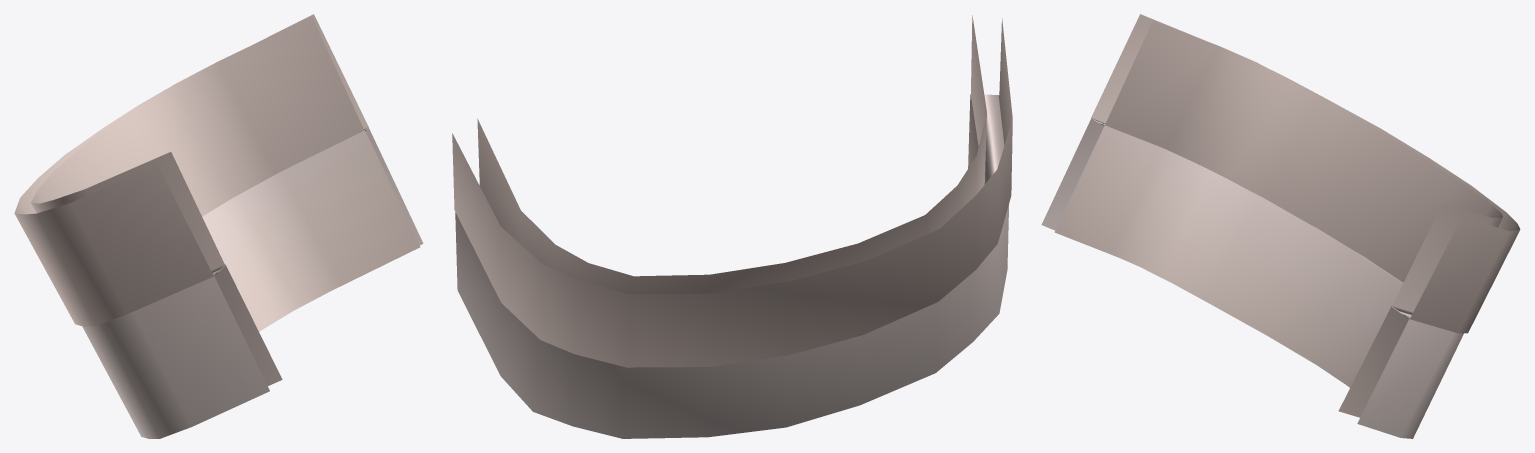
3 renders of one model, left to right at view 1: azimuth 30°, elevation 25°; view 2: azimuth 150°, elevation 25°; view 3: azimuth 270°, elevation 25°, orthographic. The views are drawn at different scales.
Visible parts, largest first — view 1: final.006_final.076; view 2: final.006_final.076; view 3: final.006_final.076.
Boxes of the visible parts, x1,y1,x2,y2 form: final.006_final.076: (14,14,423,438); final.006_final.076: (452,15,1012,438); final.006_final.076: (1041,14,1520,438).
Bounding box in the file's own units: 0.5588 × 0.4133 × 0.5718.
